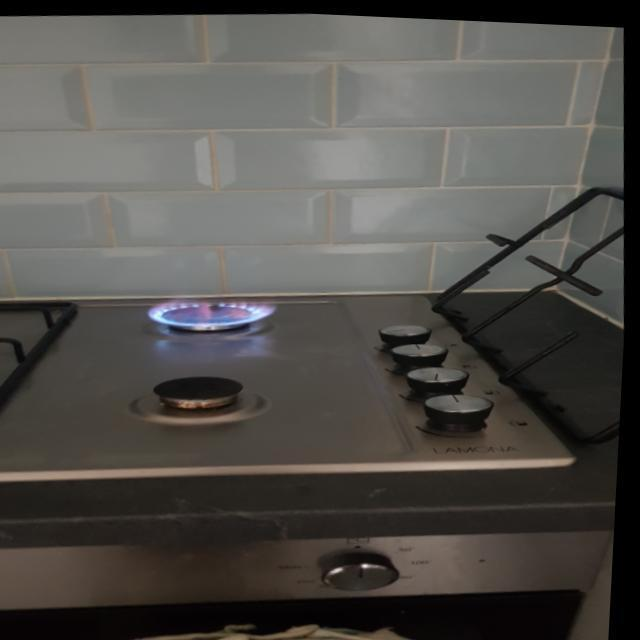Flame: (150, 290, 274, 337)
